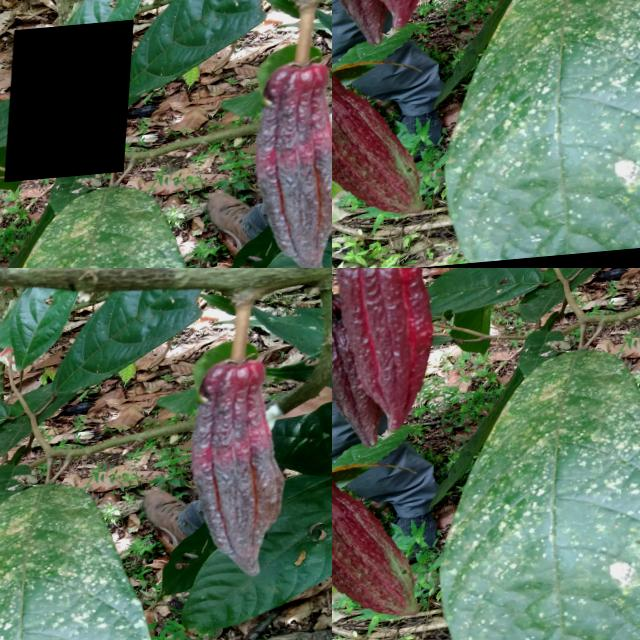Fitoftora: (9, 26, 135, 187)
Sana: (332, 268, 449, 440), (332, 459, 429, 604)
